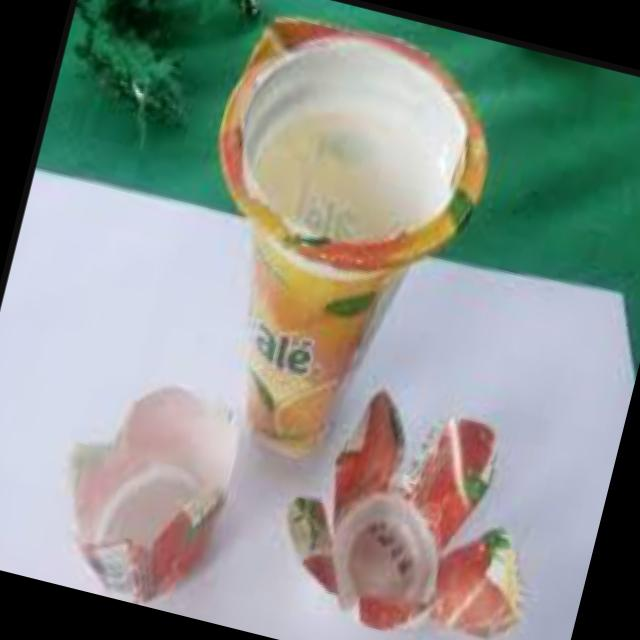GelasPlastik: (145, 0, 513, 482)
